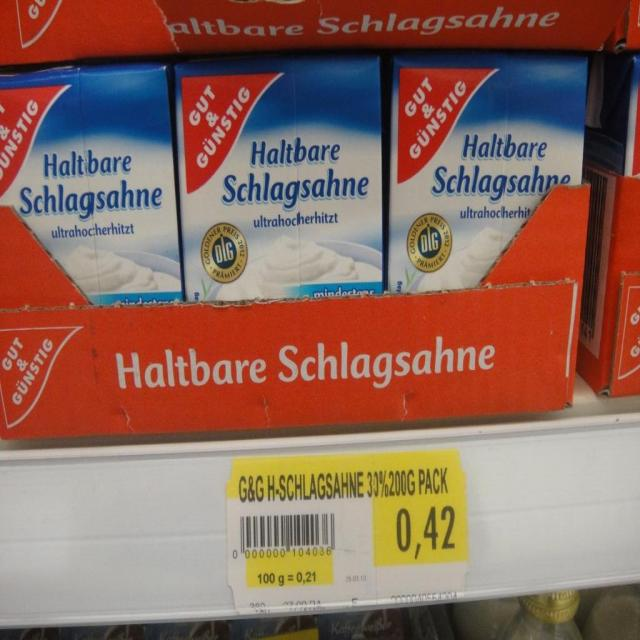Cream: (176, 58, 382, 301), (388, 52, 587, 292), (0, 64, 182, 304)
